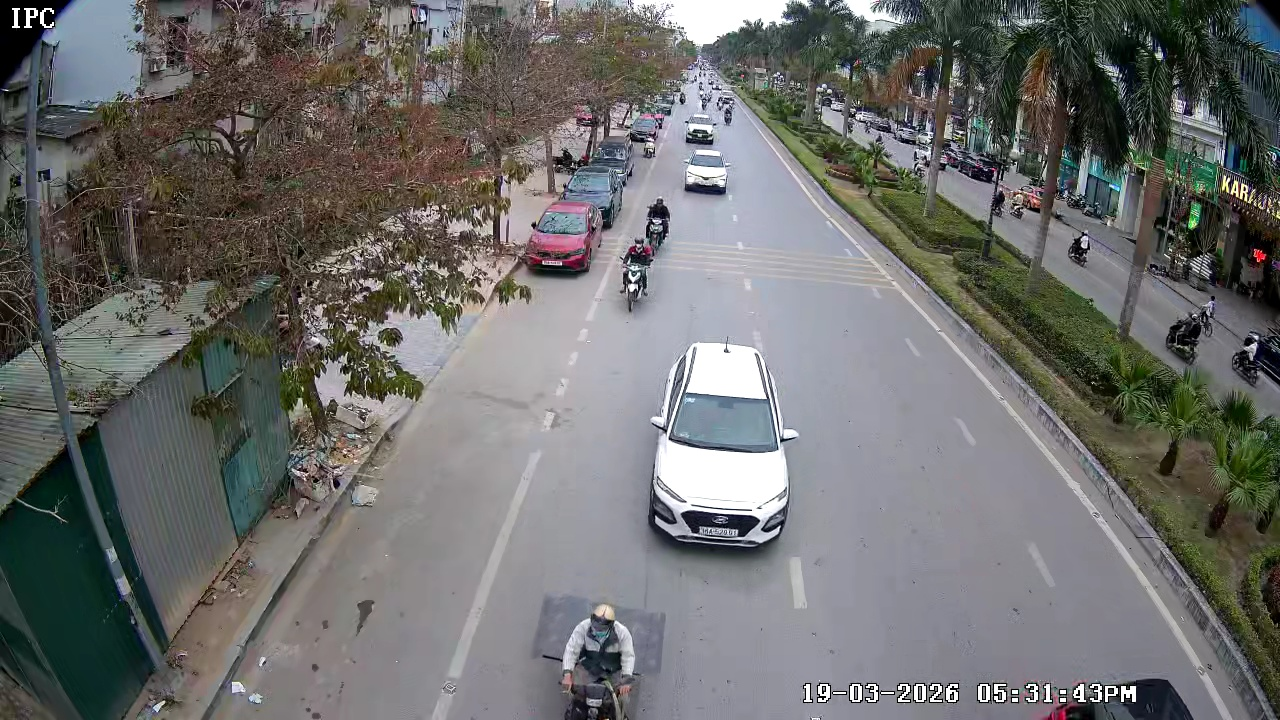car: (647, 342, 797, 552), (523, 200, 599, 276), (682, 147, 730, 195), (682, 112, 716, 143)
motorbike: (617, 232, 656, 314), (645, 194, 672, 255)
